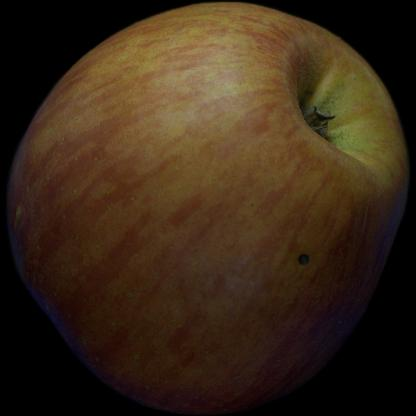defect: (260, 224, 350, 286)
